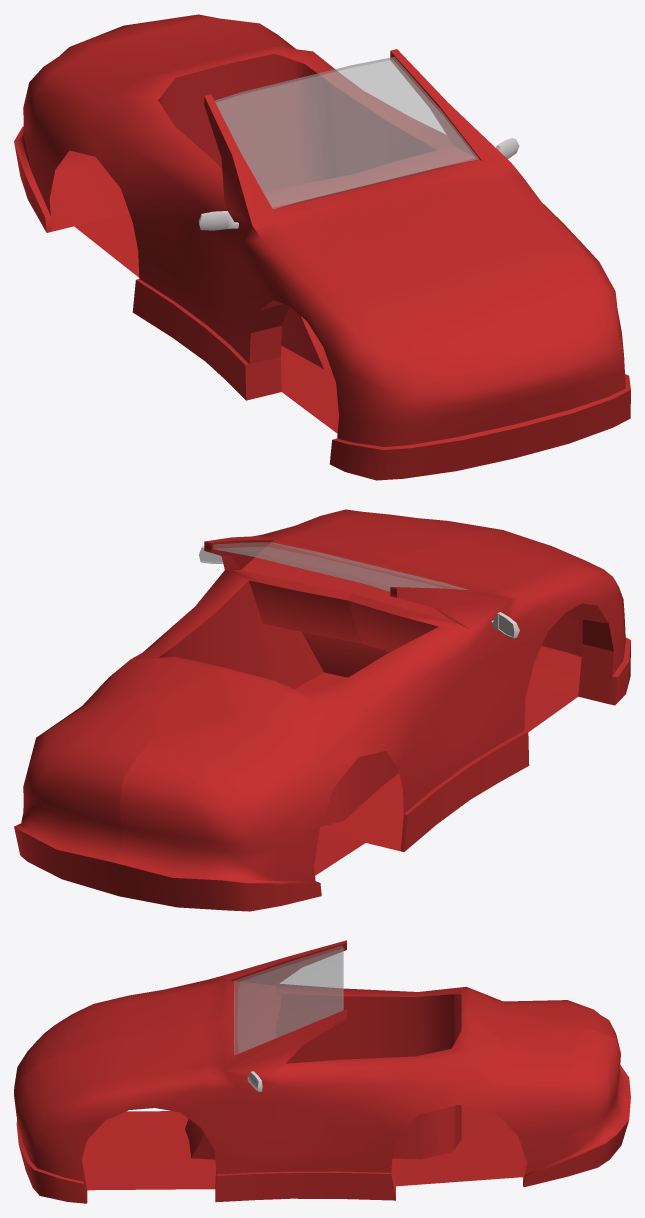
The model's file is car_base.fbx.
3 views of the same model, one above another, from view 1: azimuth 30°, elevation 25°; view 2: azimuth 150°, elevation 25°; view 3: azimuth 270°, elevation 25° (orthographic). The views are drawn at different scales.
Parts seen in each view (by area): view 1: polySurface107; view 2: polySurface107; view 3: polySurface107.
Boxes of the visible parts, x1,y1,x2,y2 form: polySurface107: (14,14,630,480); polySurface107: (14,509,630,911); polySurface107: (14,940,630,1203).
Size of the model in its own units: 3.43 by 2.37 by 7.55.
